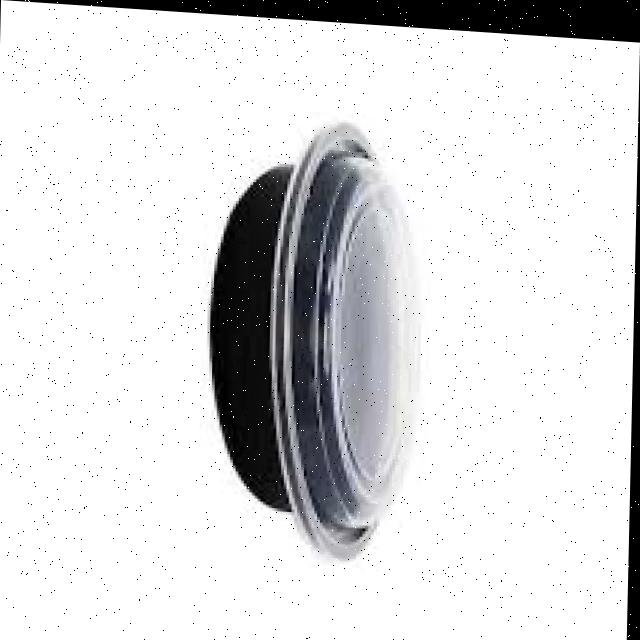disposable: (175, 104, 488, 571)
